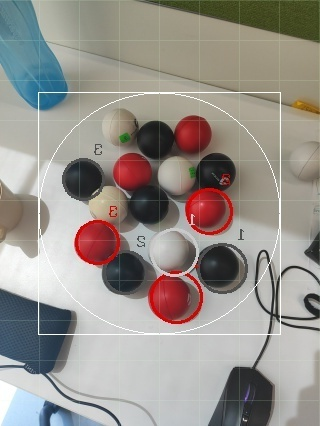Pelota blanca: (0, 193, 52, 251), (274, 265, 320, 328), (63, 395, 159, 425), (149, 228, 199, 275), (157, 156, 199, 198), (87, 185, 132, 222), (101, 108, 140, 147), (287, 140, 320, 182), (255, 249, 276, 315)
Pelota negra: (207, 366, 276, 425), (197, 241, 249, 294), (127, 182, 180, 232), (101, 249, 151, 299), (61, 156, 105, 203), (135, 118, 177, 160), (197, 150, 238, 190)
Pelota roja: (146, 270, 207, 325), (186, 185, 236, 238), (74, 217, 121, 267), (111, 150, 153, 192), (173, 113, 214, 155)
